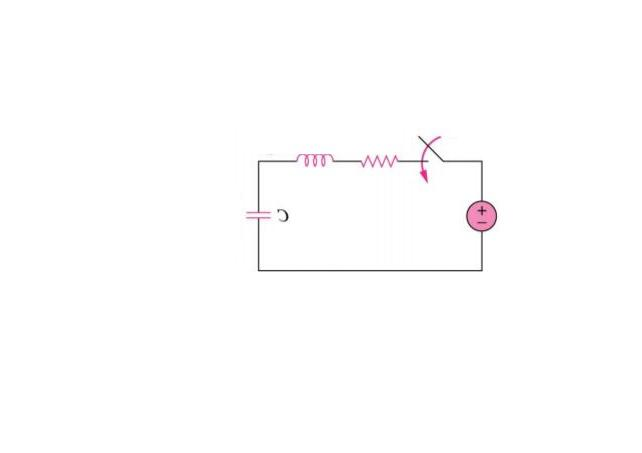resistor: (350, 138, 404, 175)
